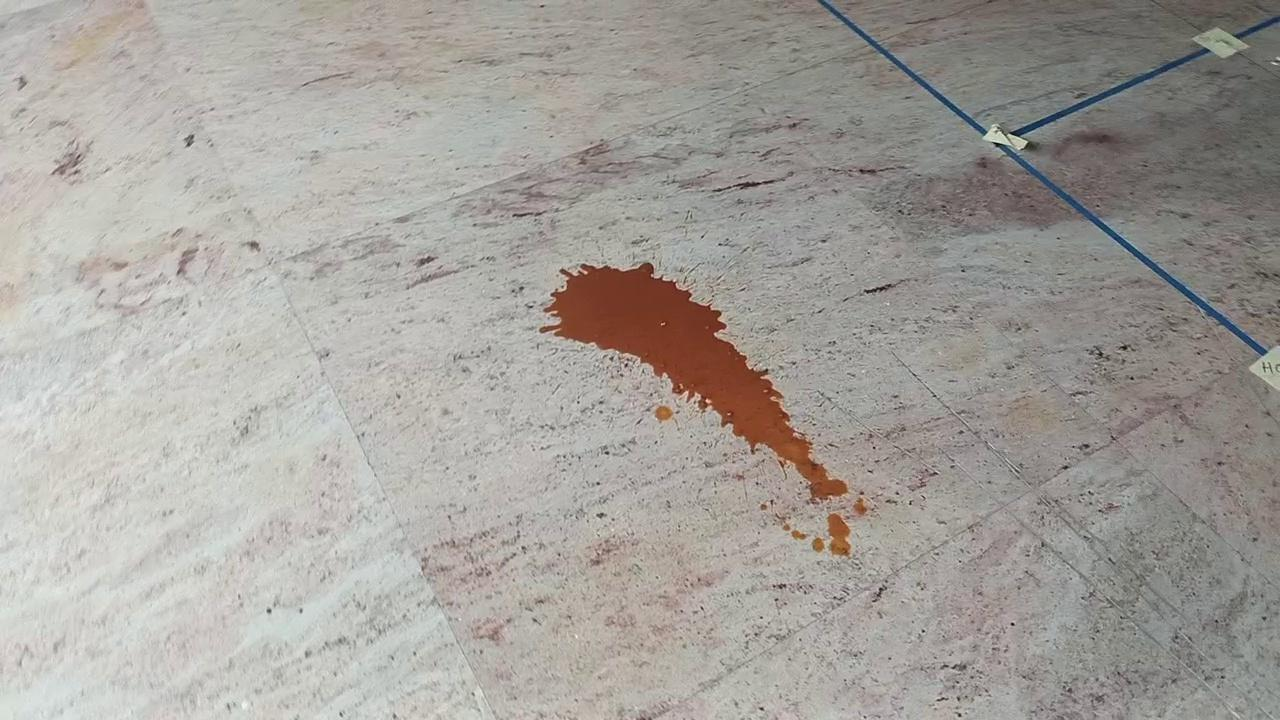dirty_floor: (539, 260, 864, 554)
